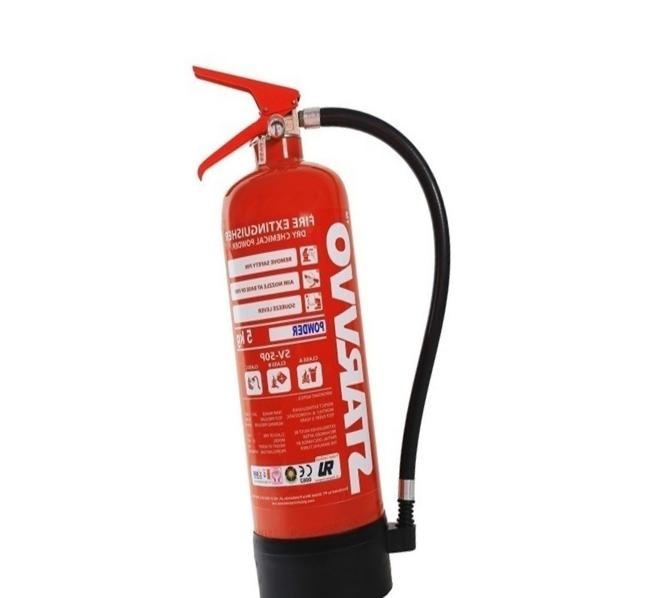fire_extinguisher: (191, 63, 451, 598)
